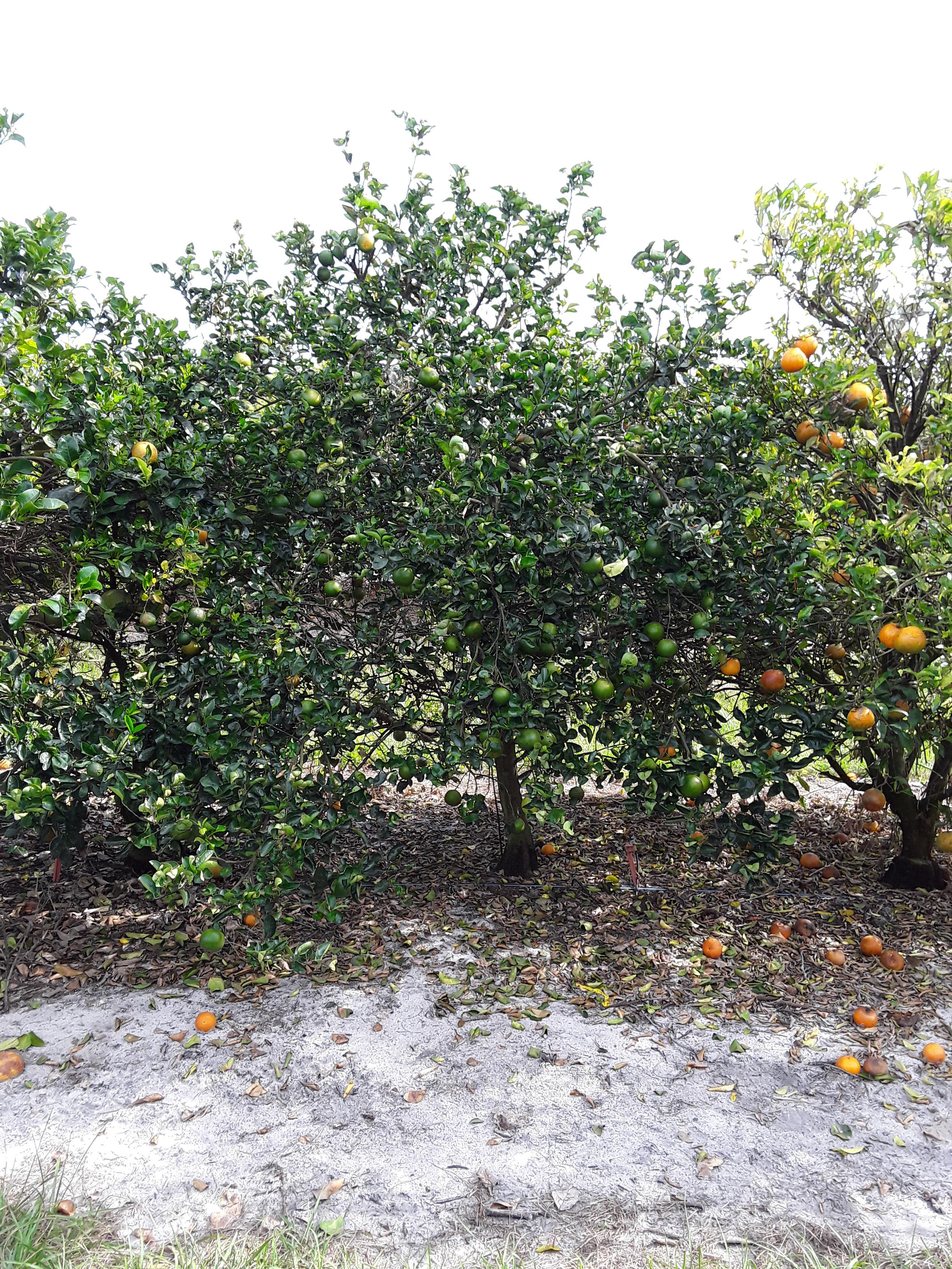fruit_on_ground: (96, 586, 133, 620), (894, 624, 927, 655), (842, 381, 874, 411), (128, 438, 160, 467), (846, 482, 879, 509), (779, 345, 808, 374), (759, 667, 788, 696), (677, 773, 707, 801), (168, 818, 199, 845), (197, 926, 227, 953), (847, 704, 876, 731), (686, 769, 712, 797), (826, 563, 855, 588), (867, 385, 893, 412), (794, 418, 821, 444), (860, 786, 887, 812), (589, 675, 616, 701), (887, 693, 915, 718), (893, 403, 920, 428), (532, 729, 557, 755), (416, 364, 442, 389), (794, 332, 820, 357), (819, 430, 846, 454), (391, 563, 416, 588), (876, 620, 900, 646), (760, 738, 787, 761), (579, 552, 605, 575), (178, 637, 203, 660), (285, 446, 310, 469), (719, 655, 743, 678), (516, 726, 539, 750), (655, 635, 680, 657), (483, 734, 506, 757), (644, 487, 668, 509), (642, 620, 666, 642), (630, 671, 653, 693), (231, 349, 254, 371), (301, 386, 324, 408), (462, 618, 485, 640), (644, 535, 666, 558), (770, 524, 794, 545), (83, 758, 105, 780), (355, 231, 377, 253), (305, 487, 327, 509), (698, 726, 721, 747), (823, 641, 846, 662), (505, 816, 529, 836), (535, 637, 556, 659), (378, 296, 400, 317), (519, 633, 541, 654), (687, 610, 710, 630), (593, 726, 616, 746), (655, 741, 679, 760), (492, 685, 513, 706), (174, 628, 194, 649), (327, 241, 348, 261), (501, 259, 521, 280), (269, 491, 290, 511), (441, 634, 462, 654), (443, 787, 464, 807), (186, 606, 207, 626), (320, 579, 342, 598), (914, 444, 935, 463), (138, 610, 159, 629), (282, 671, 303, 690), (299, 696, 319, 715), (311, 547, 331, 566), (316, 246, 336, 265), (313, 266, 334, 284), (706, 523, 725, 542), (349, 582, 368, 601), (398, 761, 416, 781), (567, 784, 586, 802), (350, 575, 368, 593), (411, 754, 428, 772), (327, 794, 345, 811), (193, 527, 210, 545), (0, 755, 15, 775), (392, 728, 408, 743)
fruit_on_tree: (0, 1049, 27, 1081), (198, 855, 228, 882), (928, 825, 952, 856), (857, 933, 886, 958), (862, 1053, 888, 1078), (853, 1004, 879, 1029), (879, 947, 905, 971), (835, 1053, 862, 1076), (193, 1009, 218, 1033), (700, 935, 724, 959), (922, 1040, 947, 1063), (767, 919, 792, 940), (793, 916, 815, 937), (37, 825, 59, 845), (799, 850, 822, 869), (240, 909, 261, 928), (826, 947, 847, 966), (862, 816, 882, 834), (820, 862, 837, 878), (831, 830, 849, 845), (540, 841, 558, 856), (690, 829, 706, 843)
